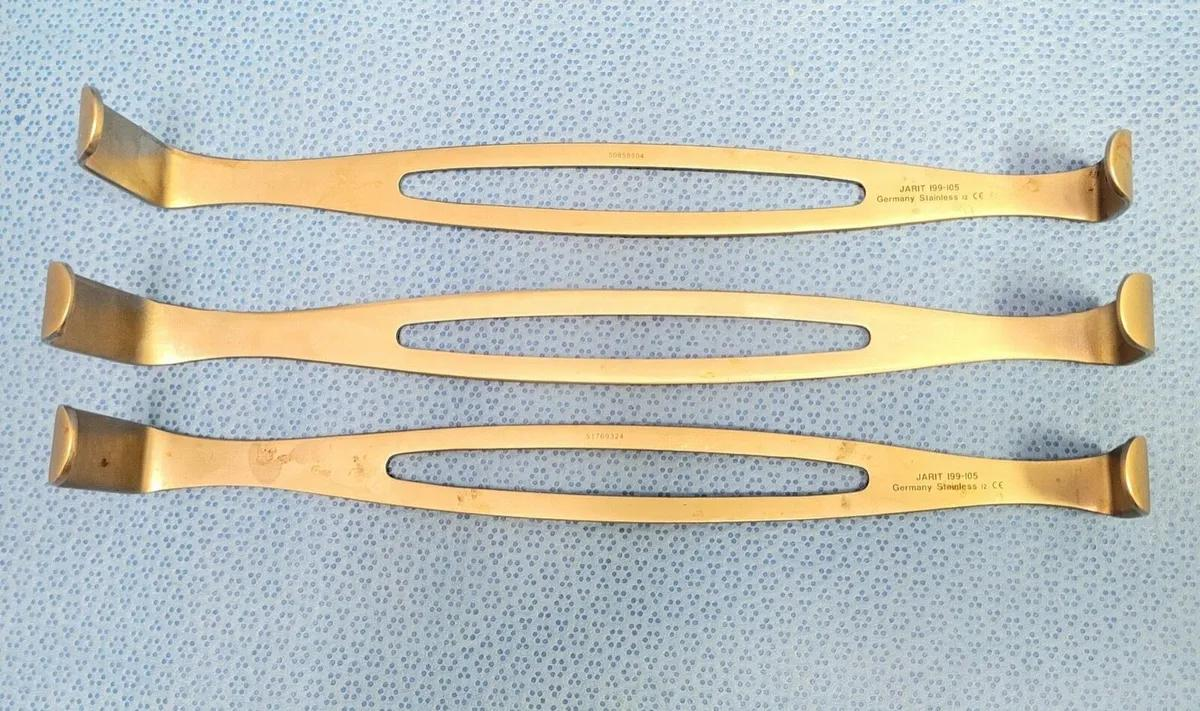Army Navy Retractor: (60, 69, 1148, 252), (23, 397, 1176, 558), (33, 246, 1171, 403)
